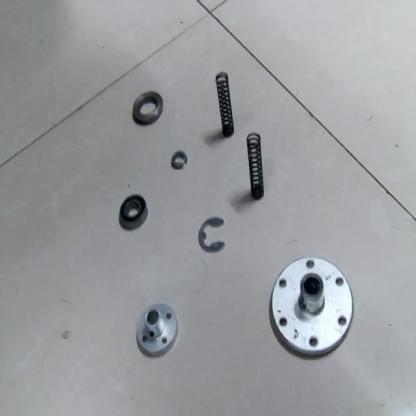FOD: (268, 256, 355, 362), (134, 300, 179, 360), (214, 70, 238, 140), (245, 129, 268, 202), (130, 87, 166, 130), (115, 193, 150, 235), (196, 211, 228, 255), (169, 149, 189, 172)
